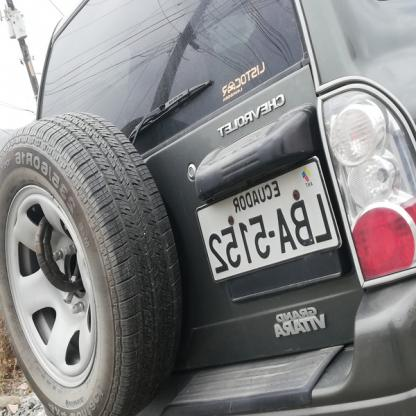Placa: (198, 142, 344, 291)
